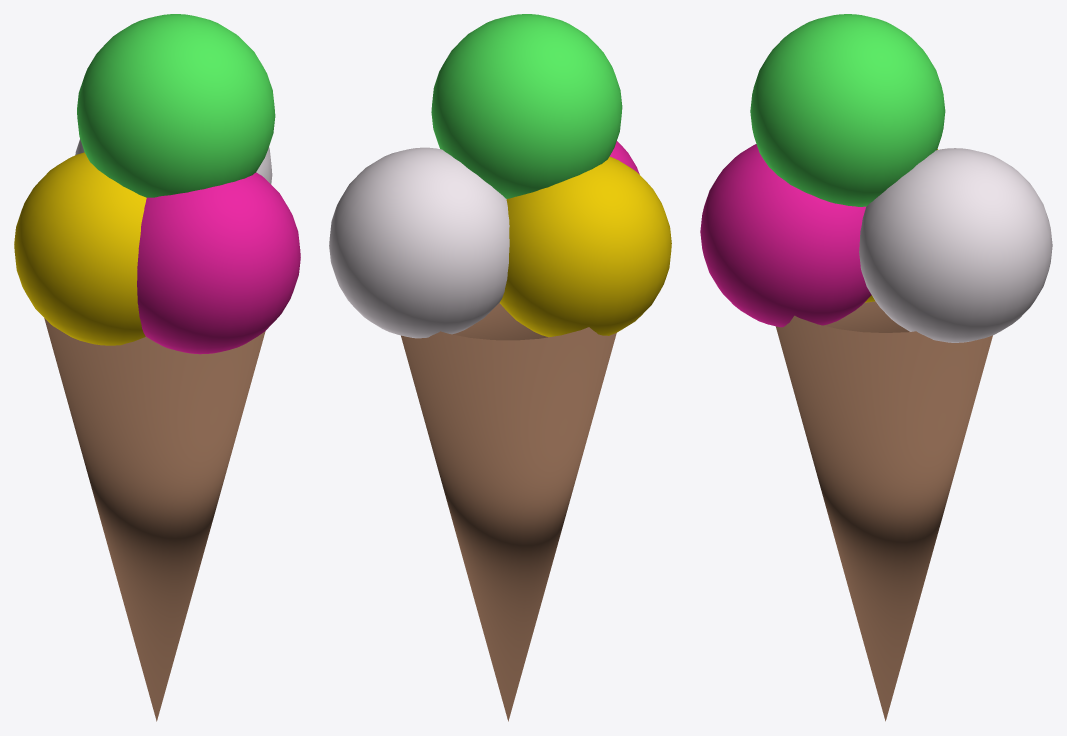
Rendered from icecreame.fbx.
The picture shows the model from 3 angles, left to right: view 1: azimuth 30°, elevation 25°; view 2: azimuth 150°, elevation 25°; view 3: azimuth 270°, elevation 25°; orthographic projection. The views are drawn at different scales.
Visible parts, largest first — view 1: Cone, Sphere, Sphere.003, Sphere.001; view 2: Cone, Sphere.002, Sphere, Sphere.001; view 3: Cone, Sphere.002, Sphere, Sphere.003.
Boxes of the visible parts, bbox=[...] form: Cone: bbox=[44, 318, 265, 721]; Sphere: bbox=[77, 14, 275, 197]; Sphere.003: bbox=[137, 172, 300, 354]; Sphere.001: bbox=[14, 152, 146, 345]; Cone: bbox=[401, 303, 616, 721]; Sphere.002: bbox=[329, 147, 509, 338]; Sphere: bbox=[431, 14, 622, 198]; Sphere.001: bbox=[499, 156, 671, 337]; Cone: bbox=[776, 301, 992, 721]; Sphere.002: bbox=[859, 148, 1052, 342]; Sphere: bbox=[750, 14, 945, 206]; Sphere.003: bbox=[700, 144, 871, 327].
Size of the model in its own units: 261 by 633 by 289.
